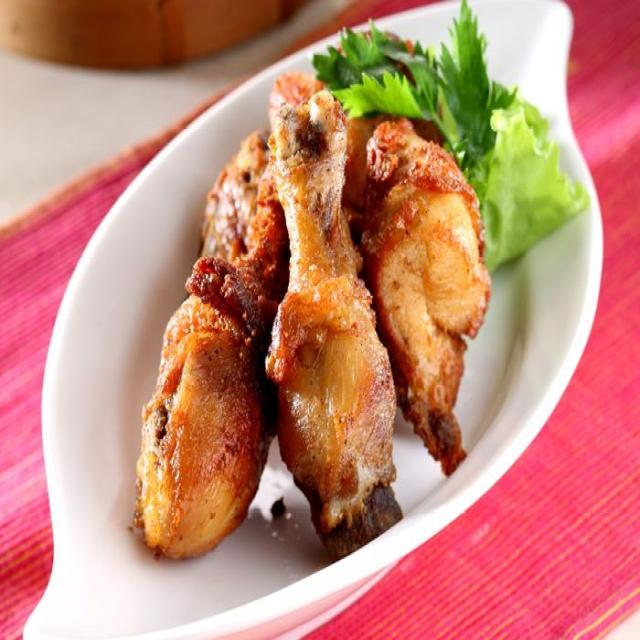Frango: (136, 135, 284, 557), (268, 73, 400, 534), (342, 113, 490, 488)
